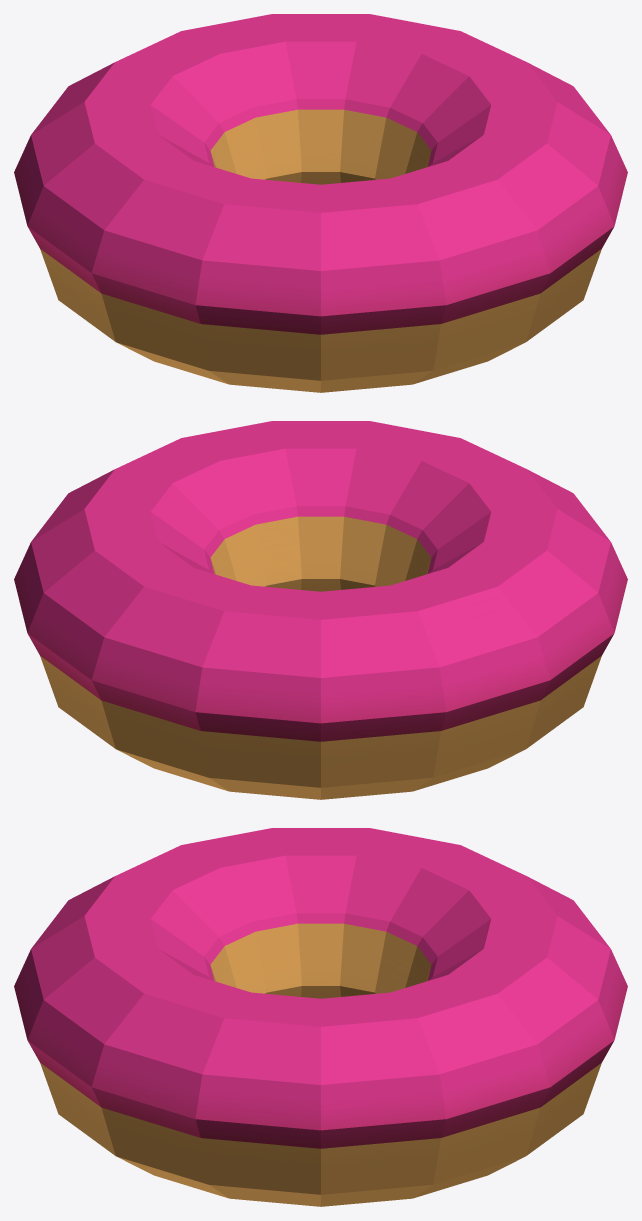
Rendered from Donut.glb.
3 renders of one model, top to bottom at view 1: azimuth 30°, elevation 25°; view 2: azimuth 150°, elevation 25°; view 3: azimuth 270°, elevation 25°, orthographic.
Parts seen in each view (by area): view 1: Donut1; view 2: Donut1; view 3: Donut1.
Part boxes in pixels (<box>): Donut1: <box>14,14,627,392</box>; Donut1: <box>14,421,627,799</box>; Donut1: <box>14,828,627,1206</box>.
Size of the model in its own units: 0.5992 by 0.2007 by 0.6025.
Materials: 1 (1 with a texture image).
